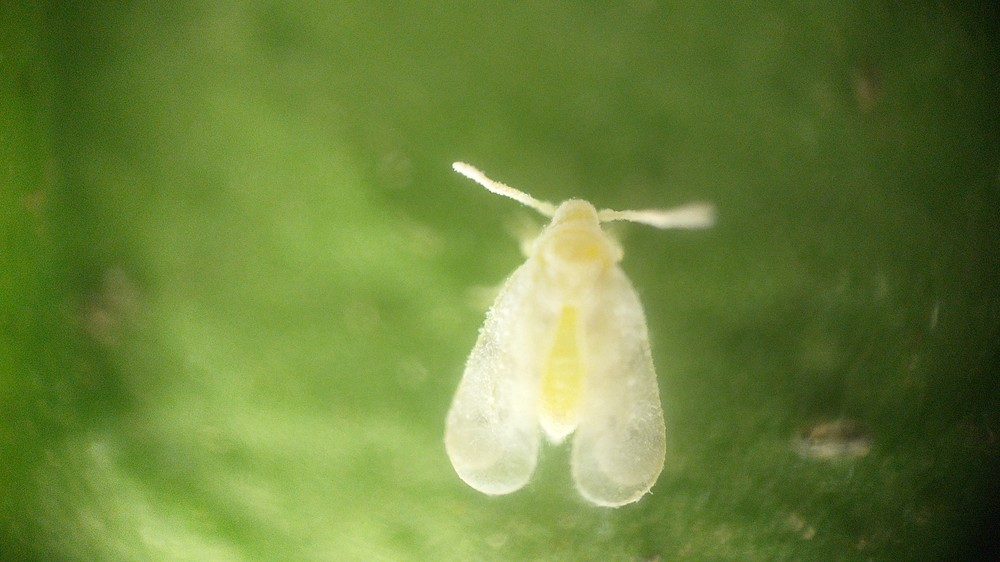Mosca Blanca: (417, 149, 744, 519)
